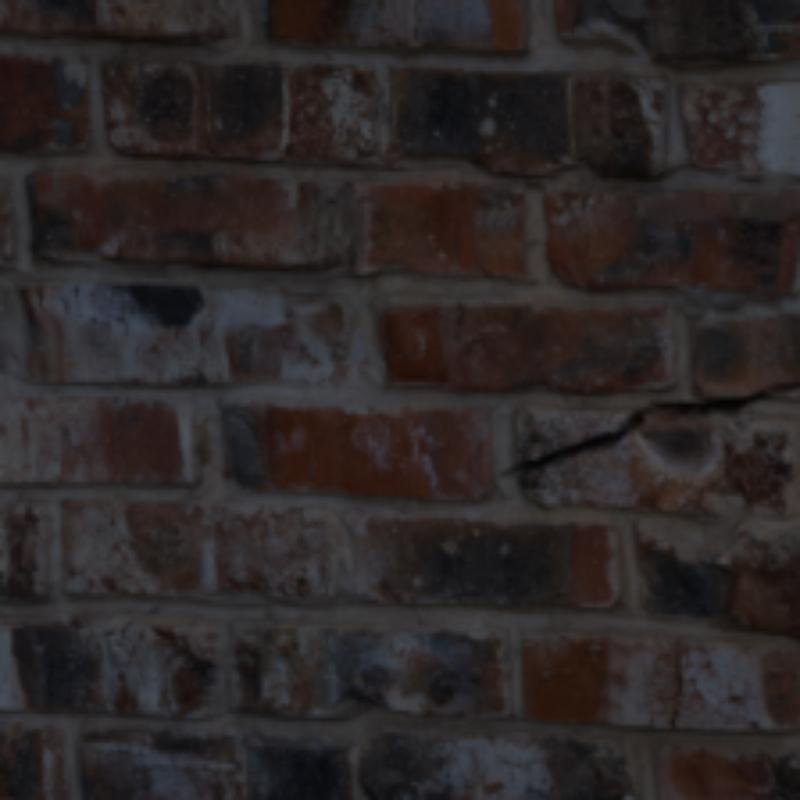pothole: (496, 382, 796, 475), (668, 646, 682, 725)
